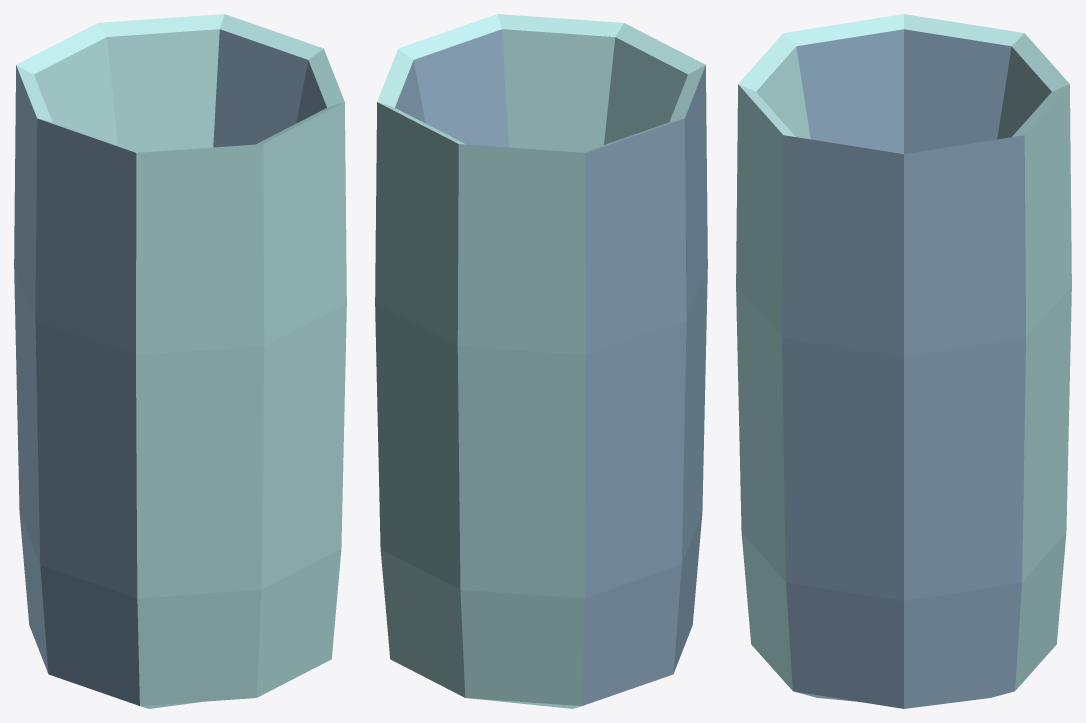
File: Glass.fbx
3 views of the same model, side by side, from view 1: azimuth 30°, elevation 25°; view 2: azimuth 150°, elevation 25°; view 3: azimuth 270°, elevation 25° (orthographic).
Parts seen in each view (by area): view 1: Glass; view 2: Glass; view 3: Glass.
Boxes of the visible parts, x1,y1,x2,y2 form: Glass: (14, 14, 346, 708); Glass: (375, 14, 707, 708); Glass: (736, 14, 1071, 708).
Bounding box in the file's own units: 16.83 × 31.95 × 16.83.
